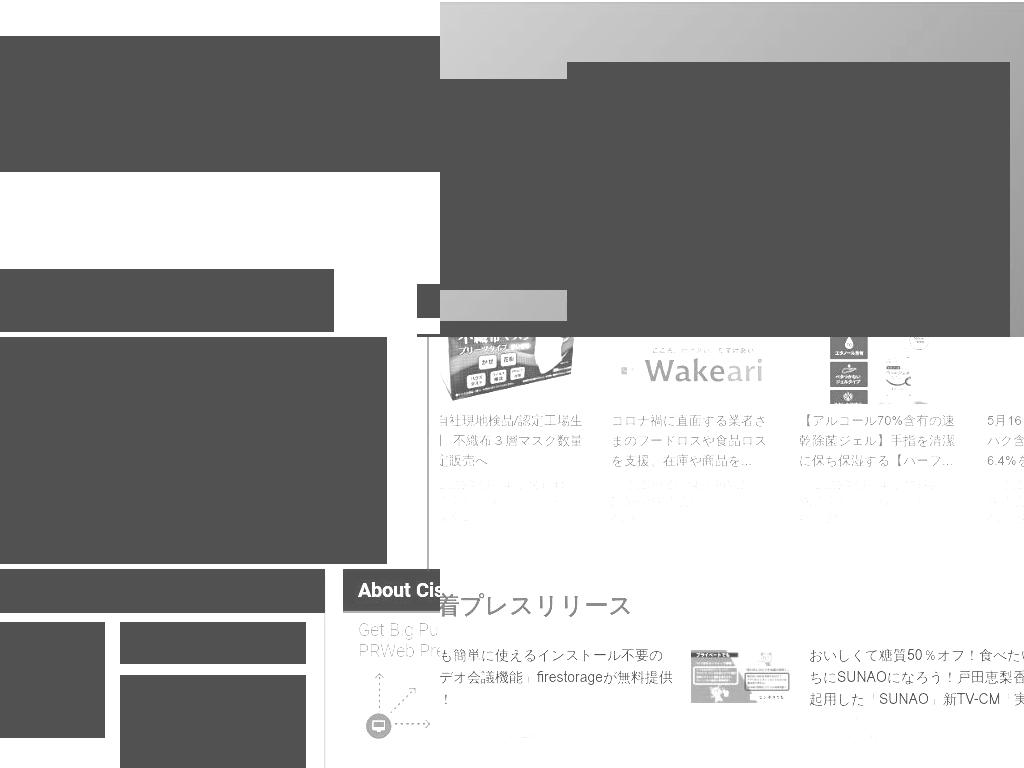button: (0, 67, 440, 172), (440, 644, 791, 746), (601, 337, 782, 532), (789, 337, 970, 532), (440, 337, 594, 532), (809, 644, 1024, 746), (977, 337, 1024, 532), (440, 729, 579, 747), (809, 729, 917, 747)
heading: (0, 337, 387, 564), (0, 67, 440, 172), (440, 79, 568, 290), (0, 269, 334, 332), (440, 592, 1024, 619), (440, 644, 676, 710), (809, 644, 1024, 710)
image: (567, 62, 1010, 337), (601, 337, 782, 419), (789, 337, 970, 419), (0, 36, 440, 67), (309, 622, 425, 738), (440, 337, 594, 419), (0, 622, 105, 738), (357, 664, 440, 747), (691, 644, 791, 711)
link: (611, 411, 772, 476), (799, 411, 960, 476), (440, 411, 584, 476), (440, 713, 676, 728), (809, 713, 1024, 728), (440, 491, 592, 512), (799, 491, 929, 512), (611, 478, 772, 493), (799, 478, 960, 493), (987, 411, 1024, 476), (611, 495, 772, 509), (799, 495, 960, 509), (440, 478, 584, 493), (440, 495, 584, 509), (611, 513, 772, 525), (611, 491, 703, 512), (799, 513, 960, 525), (440, 513, 584, 525), (987, 491, 1024, 512), (987, 478, 1024, 493), (987, 495, 1024, 509), (987, 513, 1024, 525)
text: (120, 675, 306, 768), (0, 569, 325, 613), (120, 622, 306, 664), (342, 569, 440, 613), (440, 728, 676, 746), (809, 728, 1024, 746), (357, 619, 440, 661), (611, 477, 772, 492), (799, 477, 960, 492), (440, 477, 584, 492), (611, 513, 772, 525), (799, 513, 960, 525), (440, 513, 584, 525), (987, 477, 1024, 492), (987, 513, 1024, 525)
